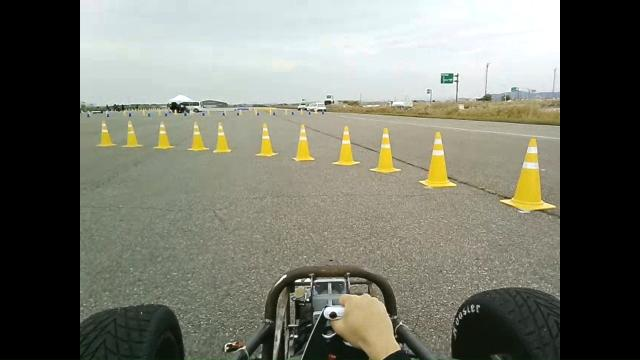yellow cone: (500, 137, 556, 212), (419, 131, 456, 188), (369, 127, 401, 173), (332, 125, 360, 166), (292, 124, 315, 162), (255, 122, 278, 157), (187, 120, 209, 151), (153, 120, 175, 150), (213, 121, 231, 153), (122, 120, 143, 147), (96, 119, 116, 147)
